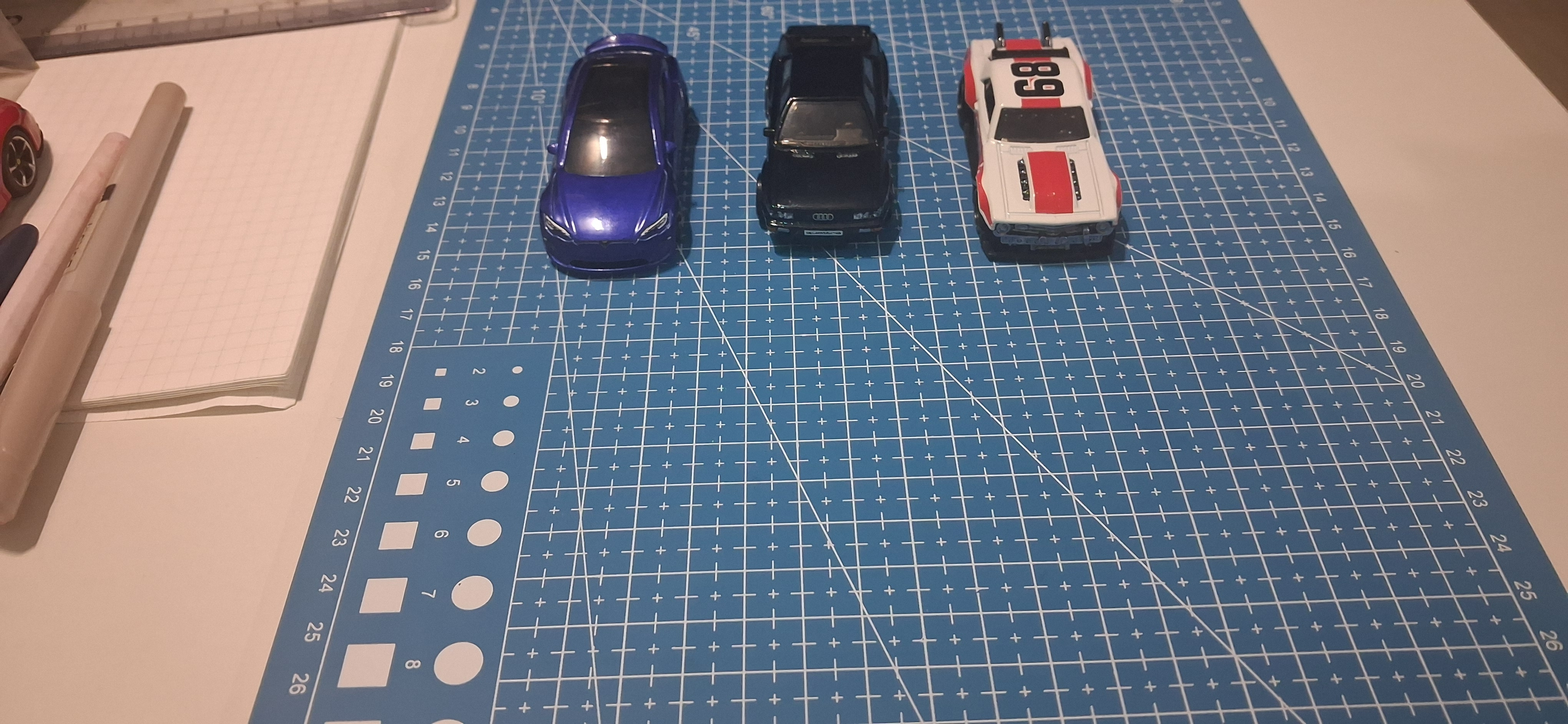Audi_Quattro: (754, 11, 905, 324)
Camaro: (938, 11, 1154, 309)
Tesla_Model_S_Plaid: (538, 21, 707, 305)
